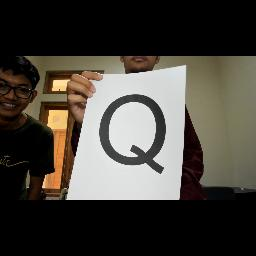q: (96, 92, 172, 186)
